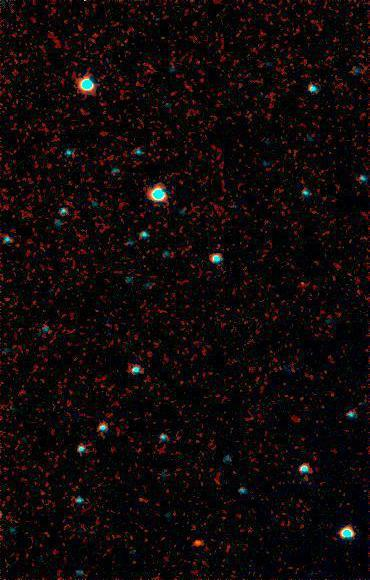star: (182, 530, 212, 560)
